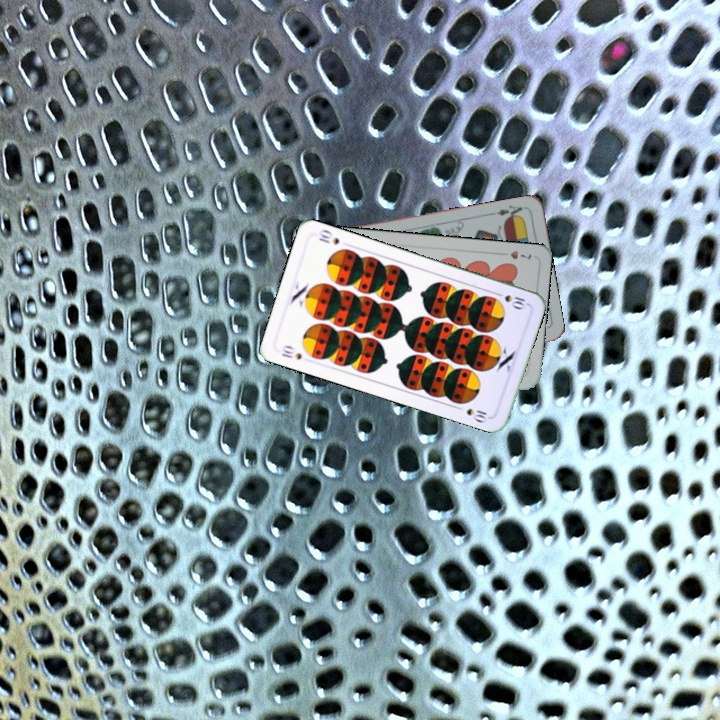EA: (493, 201, 525, 222)
H7: (495, 247, 534, 262)
S10: (491, 288, 530, 312), (277, 341, 304, 362)
